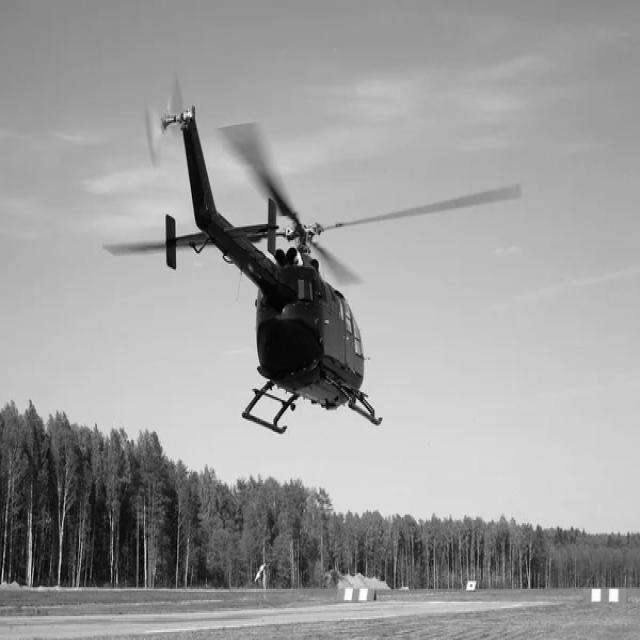Helicopter: (106, 106, 522, 434)
